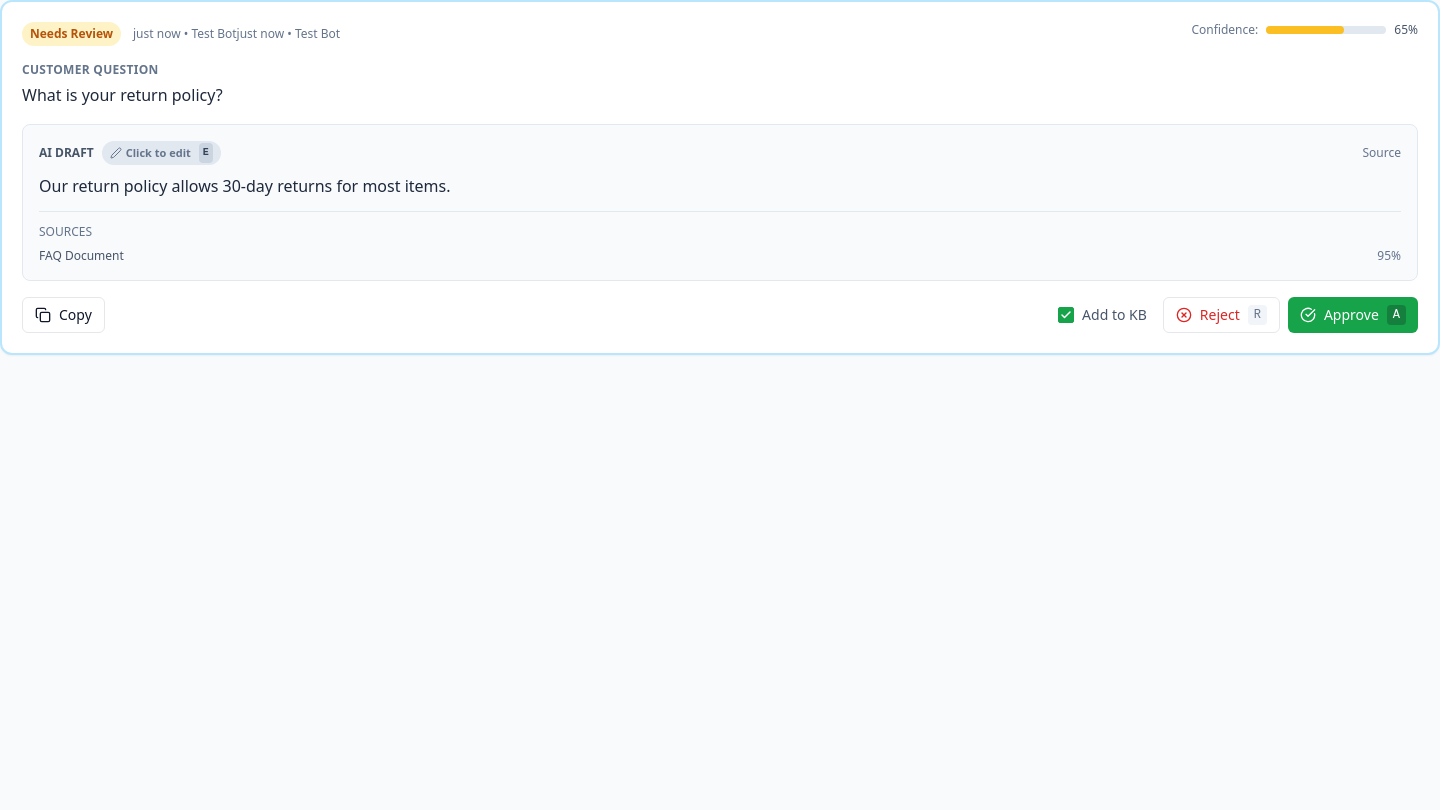
Scenario: ReviewQueueItemCard - Approve/Edit Flow › AC3: Success Toast › shows success toast after successful approval
Step 1. Click the button "Approve A" → (1353, 315), box [1288, 297, 1418, 333]
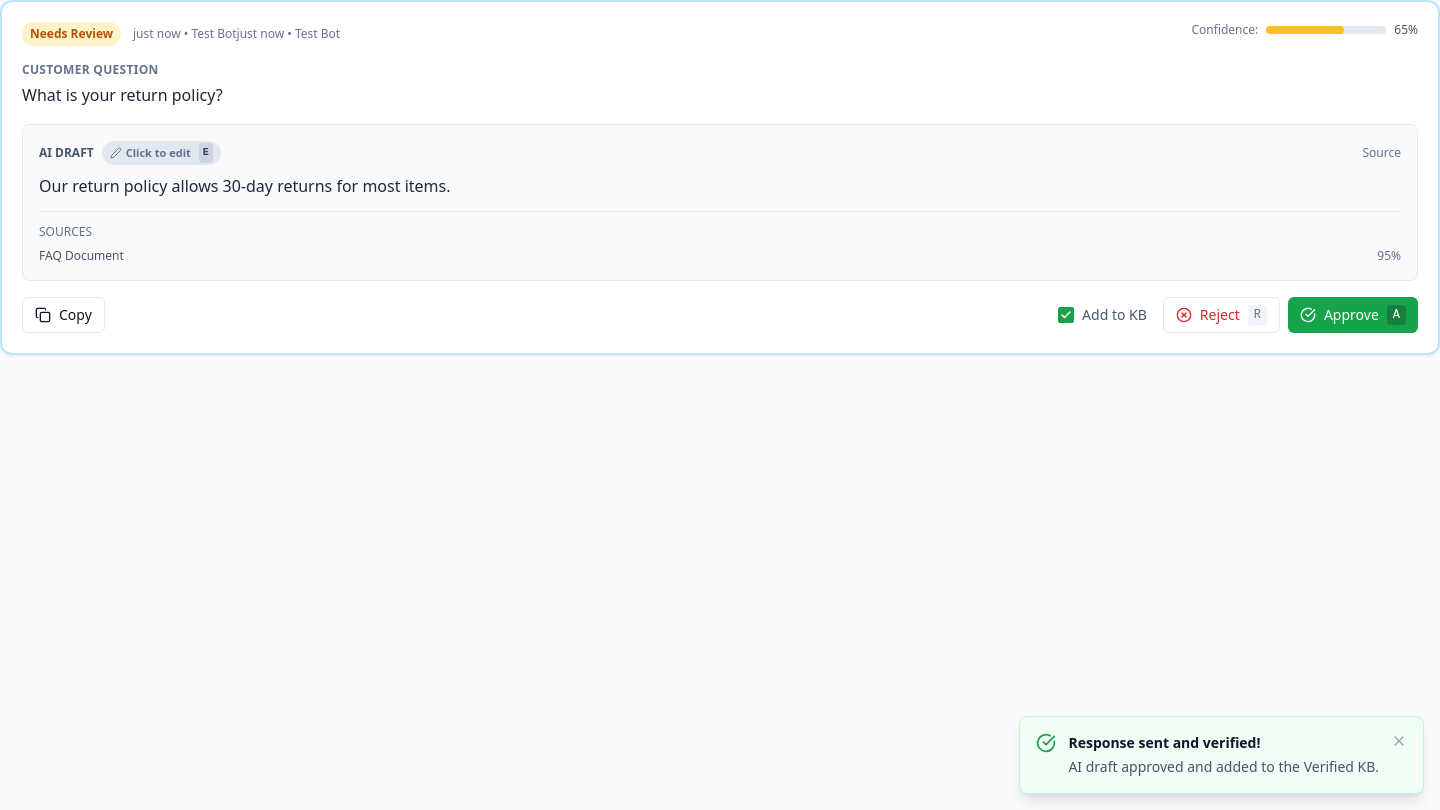
Expected: the text "Response sent and verified!" is shown, [1068, 733, 1260, 752]
